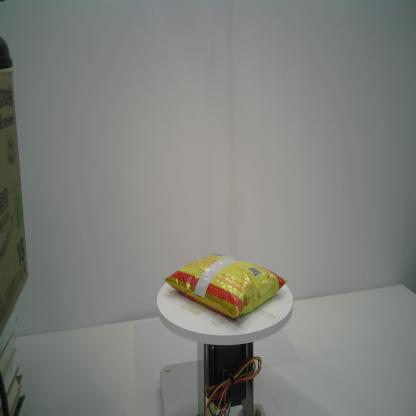Seasoner: (164, 254, 288, 320)
